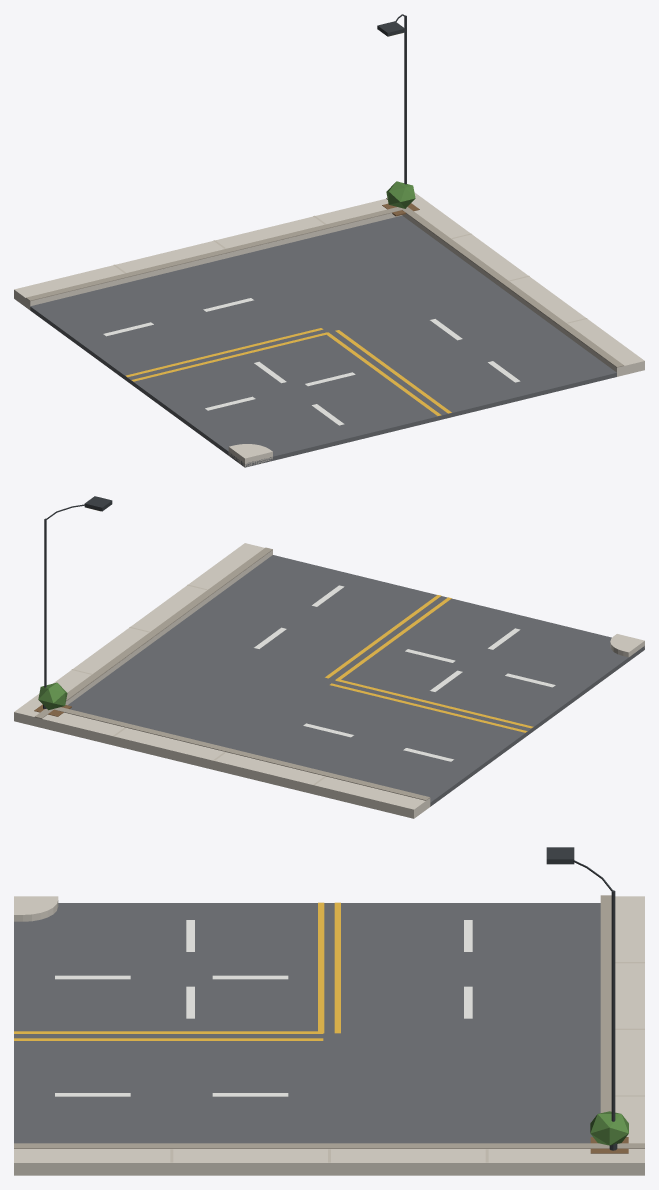
File: Yol_kose_cc_Hafif.fbx
3 views of the same model, one above another, from view 1: azimuth 30°, elevation 25°; view 2: azimuth 150°, elevation 25°; view 3: azimuth 270°, elevation 25° (orthographic). The views are drawn at different scales.
Parts seen in each view (by area): view 1: Yol_kose_cc_Hafif; view 2: Yol_kose_cc_Hafif; view 3: Yol_kose_cc_Hafif.
Boxes of the visible parts, <box> form: Yol_kose_cc_Hafif: <box>14,14,644,467</box>; Yol_kose_cc_Hafif: <box>14,496,644,818</box>; Yol_kose_cc_Hafif: <box>14,847,644,1175</box>.
Bounding box in the file's own units: 10 × 5.01 × 10.
